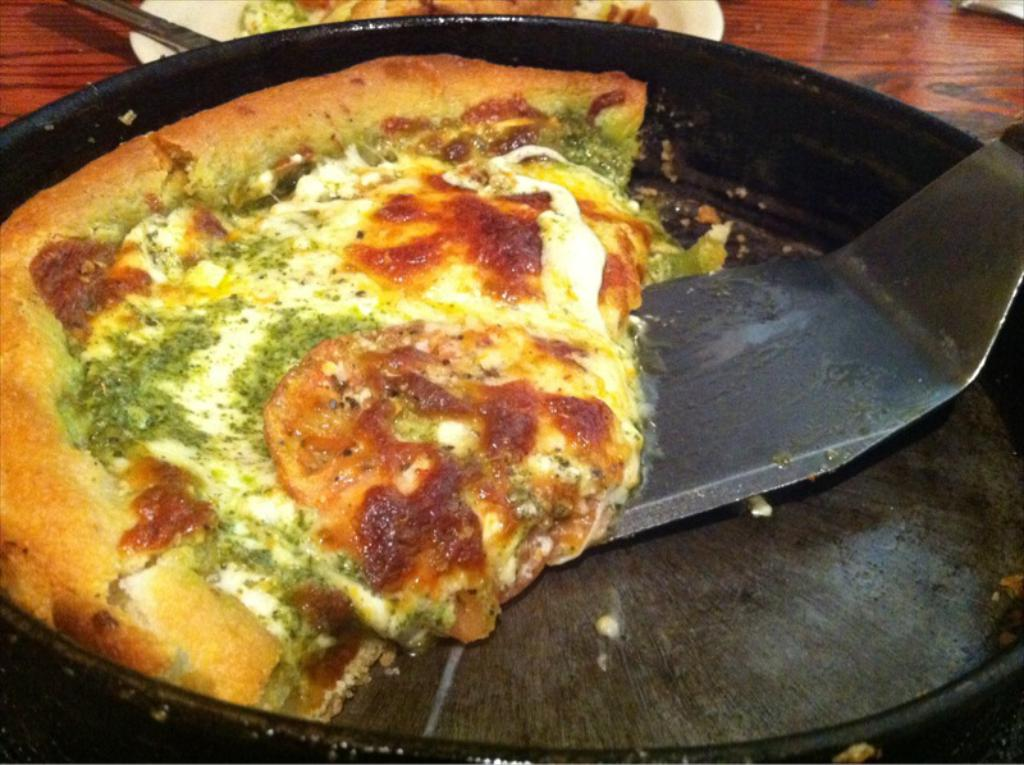Pizza: (3, 81, 646, 702)
